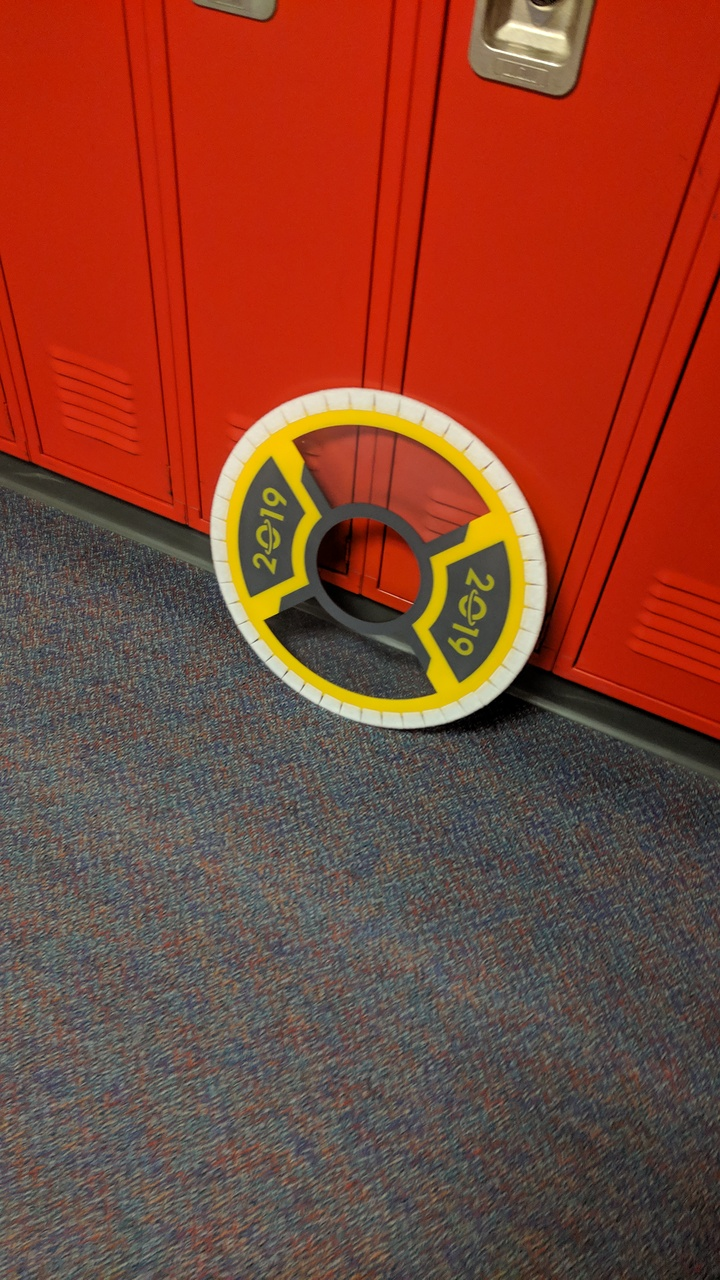hatch_panel: (207, 383, 573, 739)
